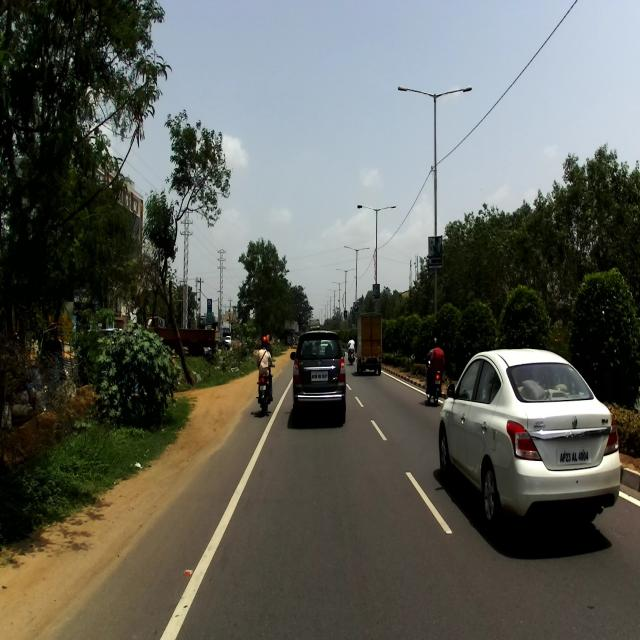Car_Renault: (438, 347, 620, 532)
Car_Toyota: (289, 331, 349, 417)
motorcycle_Hero: (424, 356, 446, 404)
